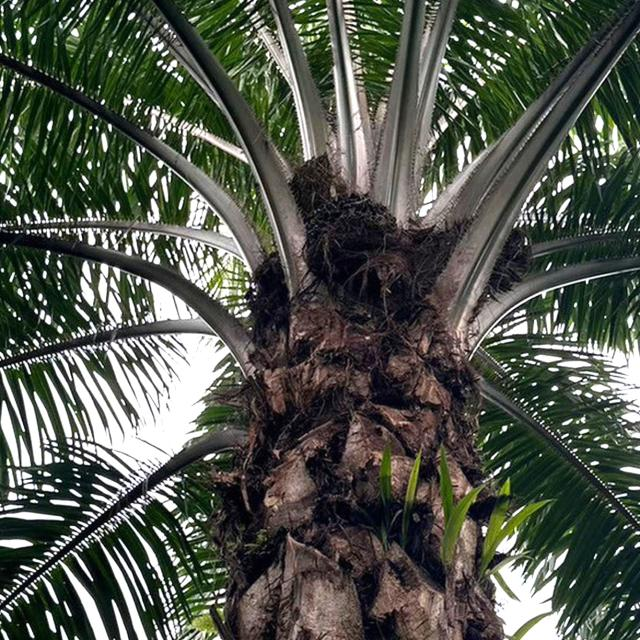unripe: (302, 192, 407, 280)
